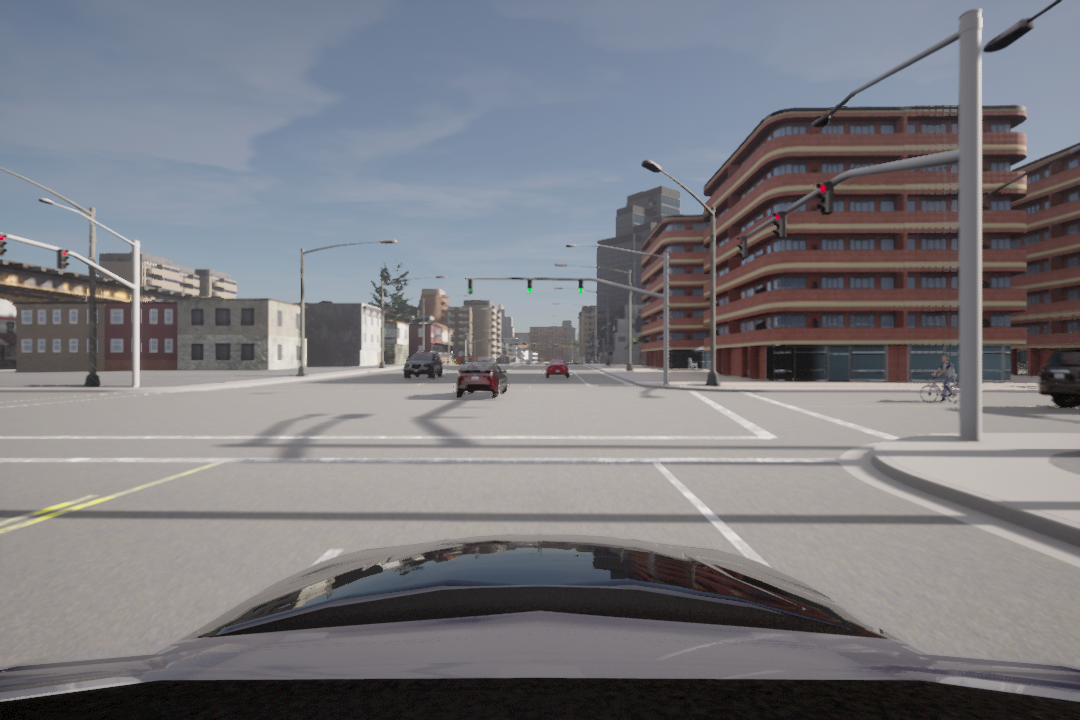TrafficLight: (811, 181, 836, 216), (768, 211, 789, 238), (54, 248, 72, 271), (735, 235, 747, 258), (1, 234, 9, 258), (465, 277, 475, 296), (525, 278, 534, 294), (576, 277, 584, 294)
